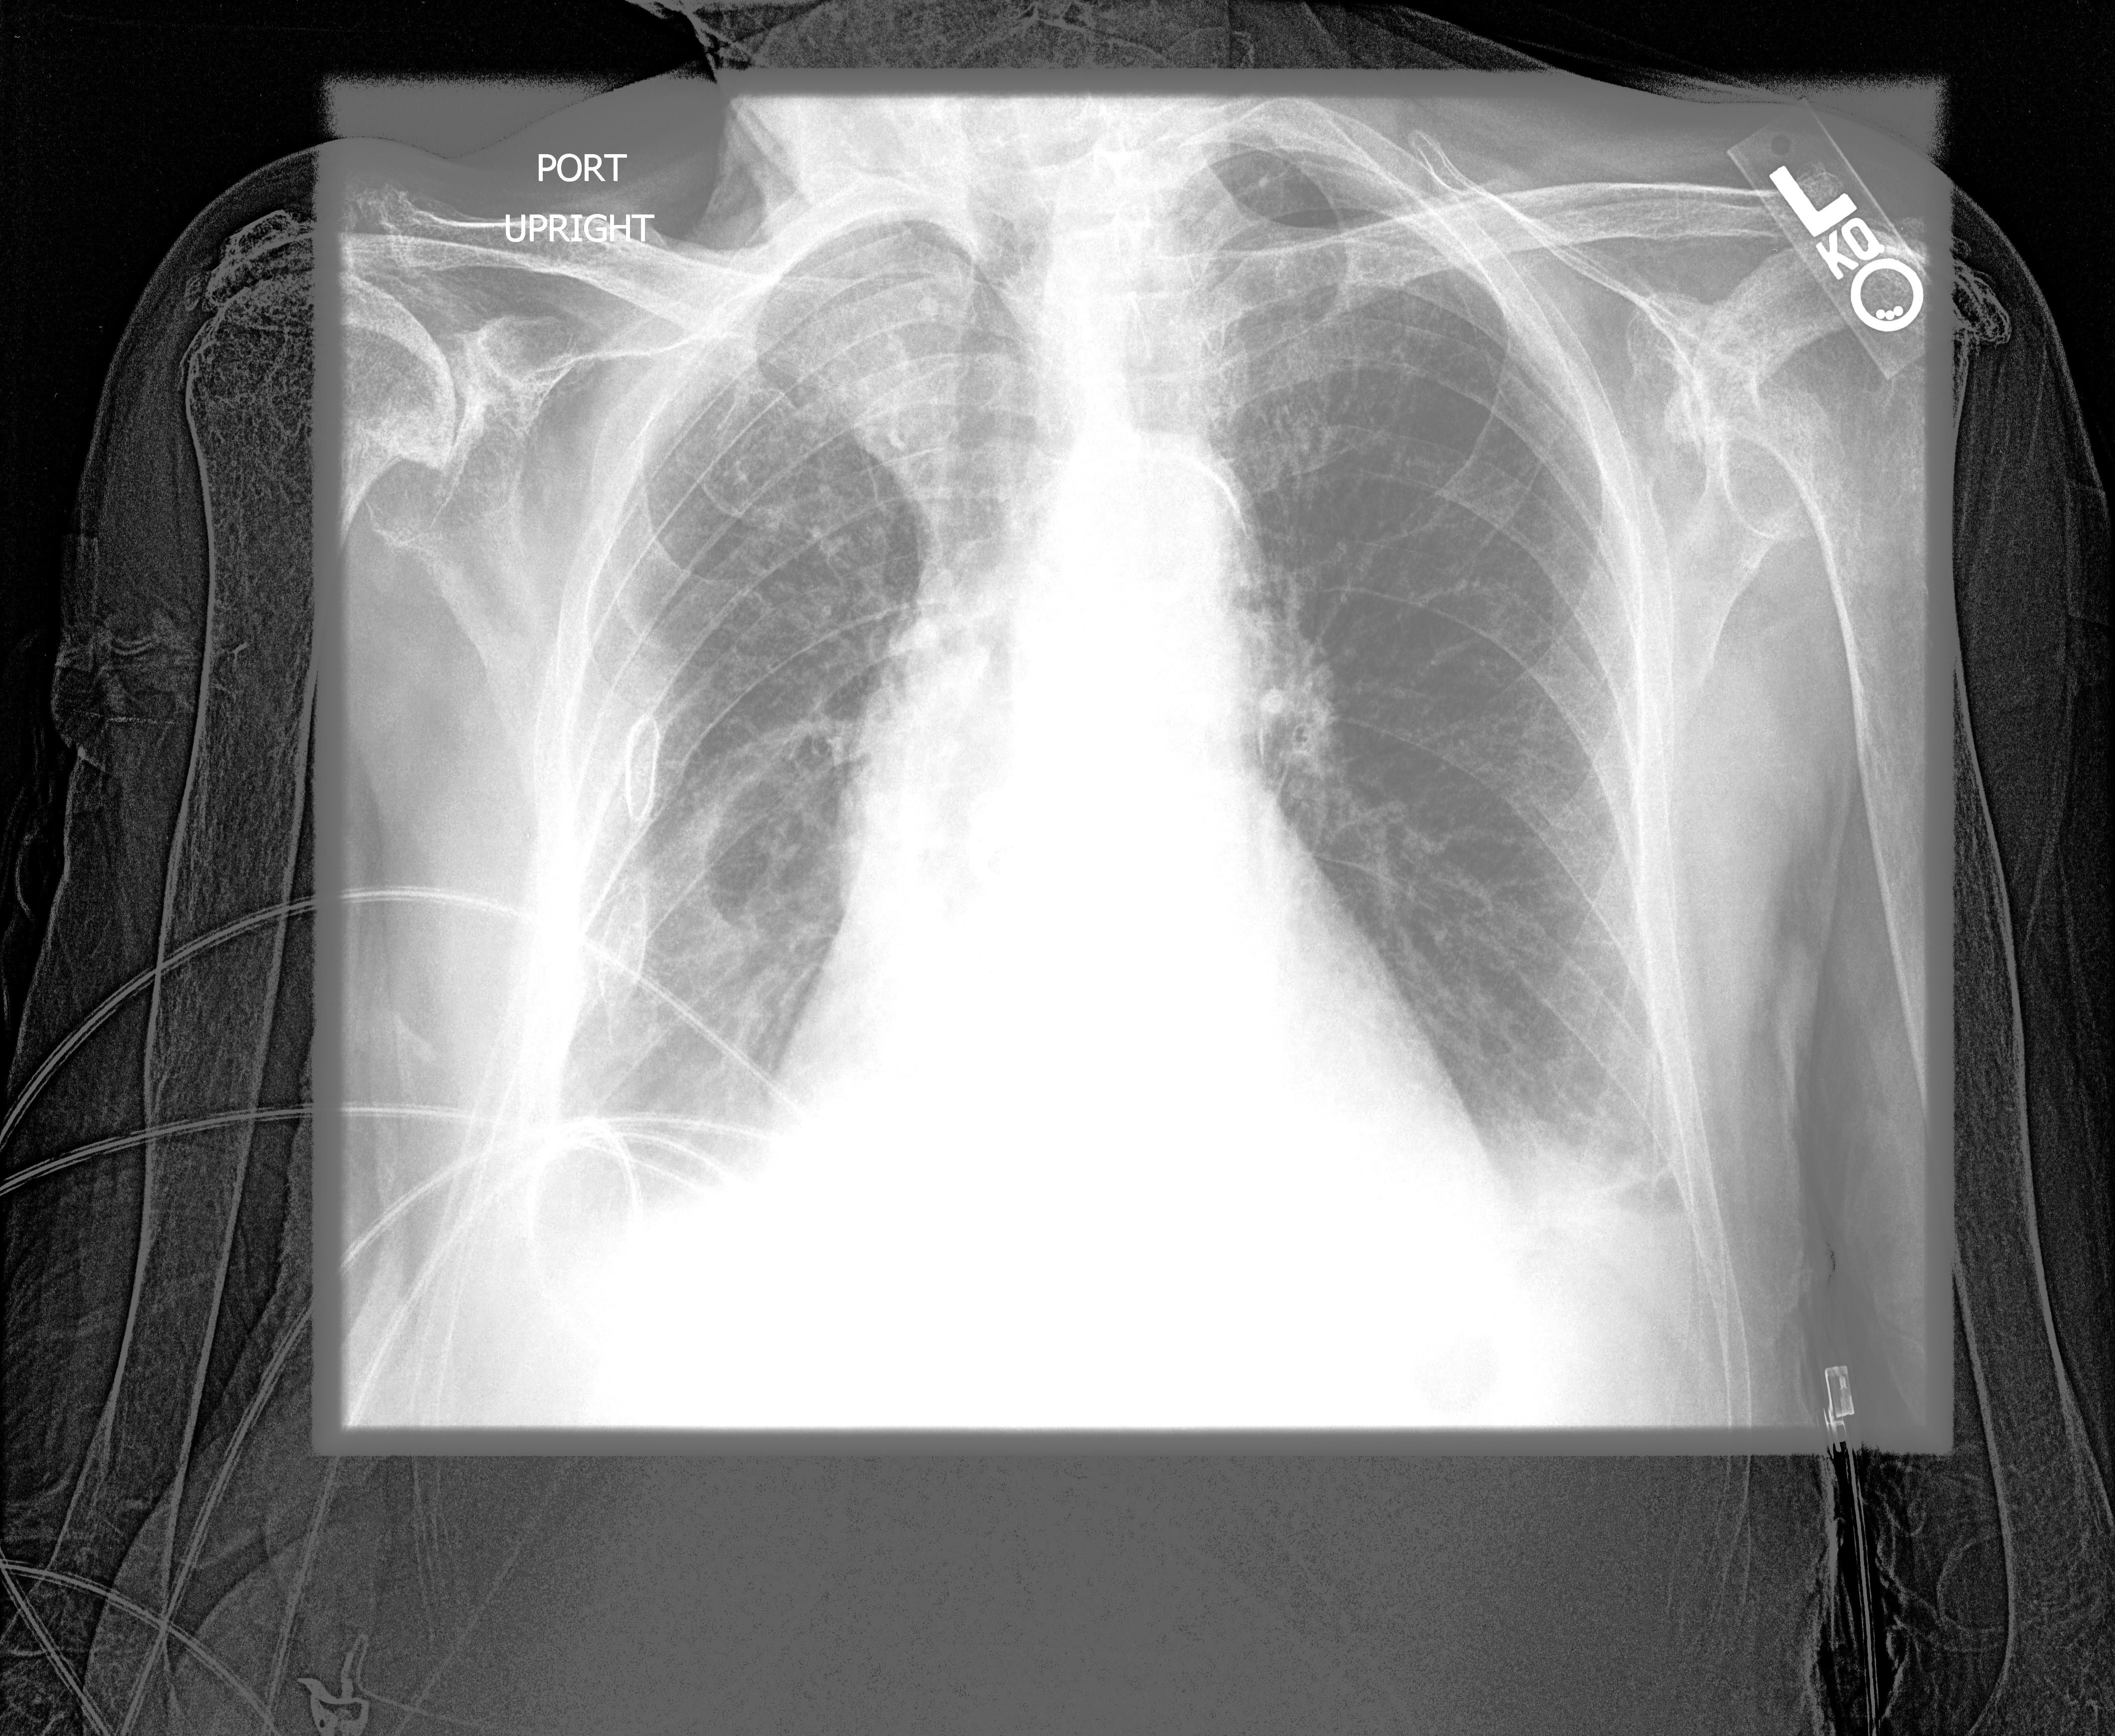Pleural Effusion: (453, 1156, 810, 1351), (1467, 1167, 1758, 1355)
